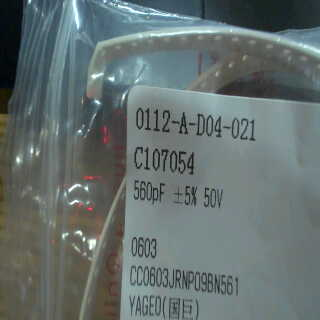560pF: (130, 174, 167, 207)
